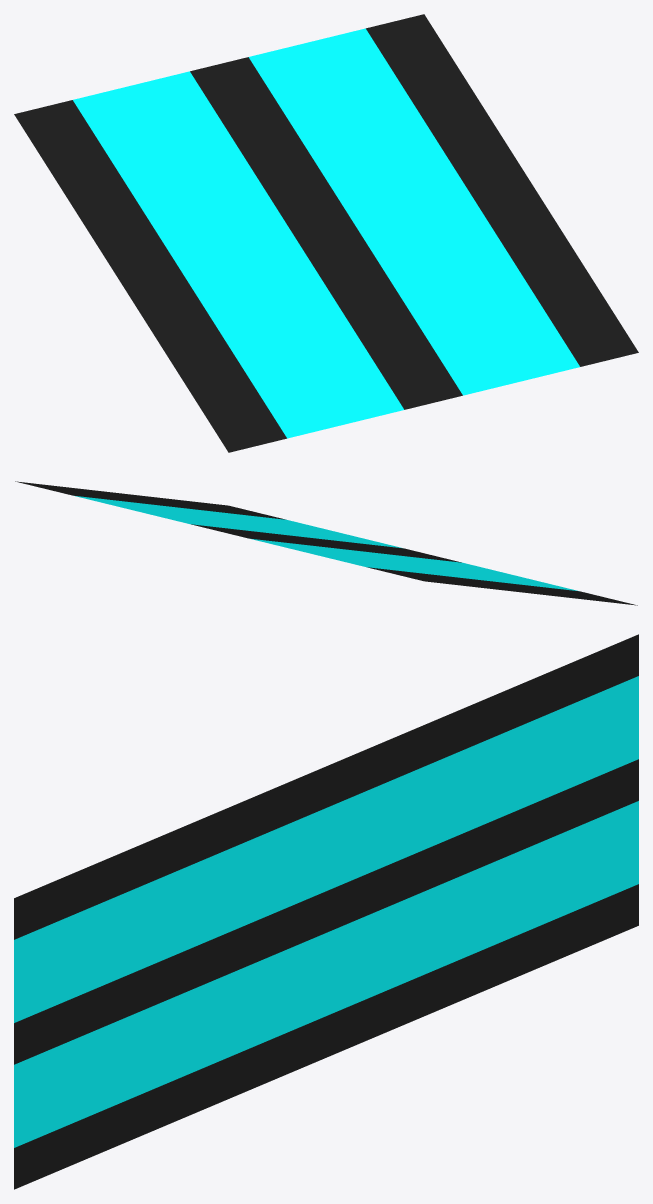
File: RaceTrack_Up25Degree_5m 1.fbx
3 renders of one model, top to bottom at view 1: azimuth 30°, elevation 25°; view 2: azimuth 150°, elevation 25°; view 3: azimuth 270°, elevation 25°, orthographic. The views are drawn at different scales.
Parts seen in each view (by area): view 1: Up25Degree_5m; view 2: Up25Degree_5m; view 3: Up25Degree_5m.
Boxes of the visible parts, x1=… form: Up25Degree_5m: x1=14, y1=14, x2=638, y2=452; Up25Degree_5m: x1=15, y1=481, x2=637, y2=605; Up25Degree_5m: x1=14, y1=634, x2=638, y2=1189.
Bounding box in the file's own units: 5 × 2.11 × 4.53.
